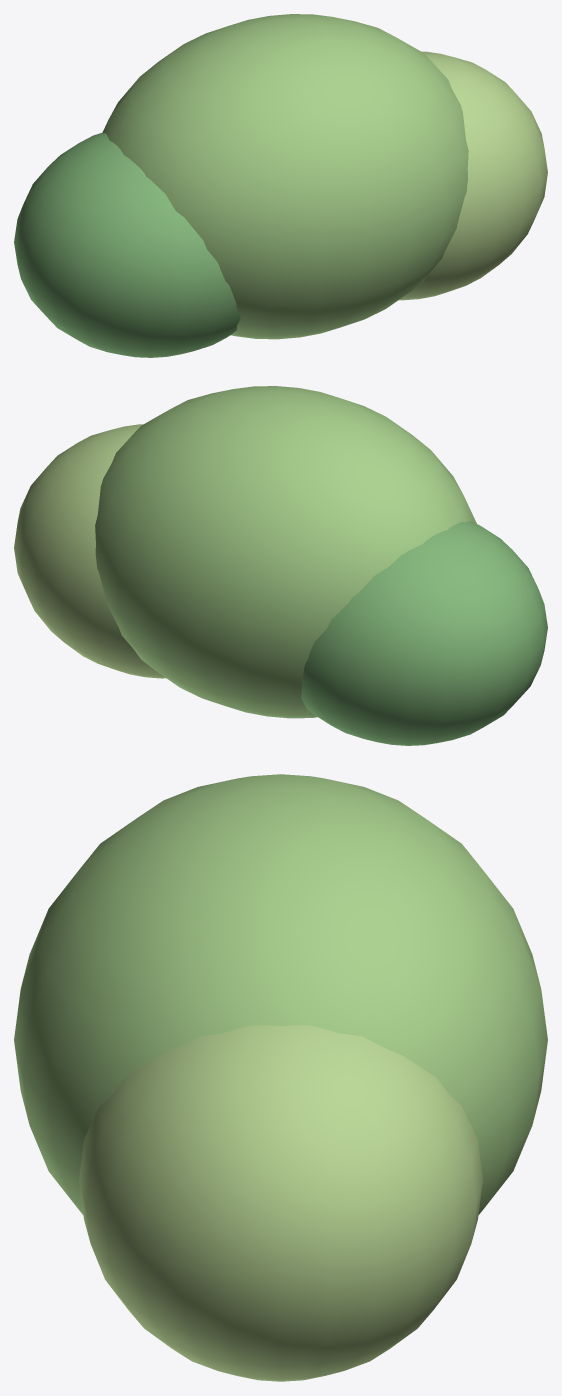
File: bush.glb
The picture shows the model from 3 angles, top to bottom: view 1: azimuth 30°, elevation 25°; view 2: azimuth 150°, elevation 25°; view 3: azimuth 270°, elevation 25°; orthographic projection. The views are drawn at different scales.
Parts seen in each view (by area): view 1: bush; view 2: bush; view 3: bush.
Part boxes in pixels (x1,y1,x2,y2): bush: (14,14,547,357); bush: (14,386,547,745); bush: (14,774,547,1381).
Size of the model in its own units: 1.26 by 0.7 by 0.74.
